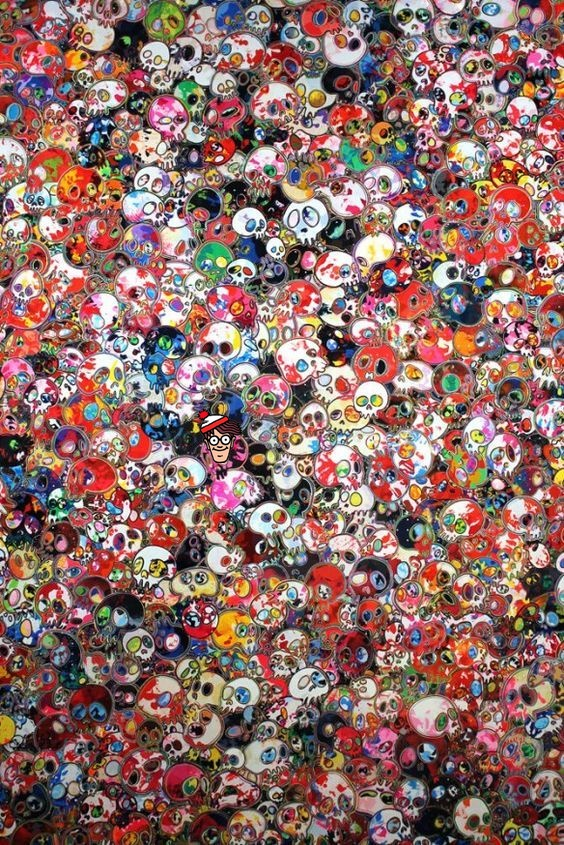waldo: (197, 408, 243, 463)
